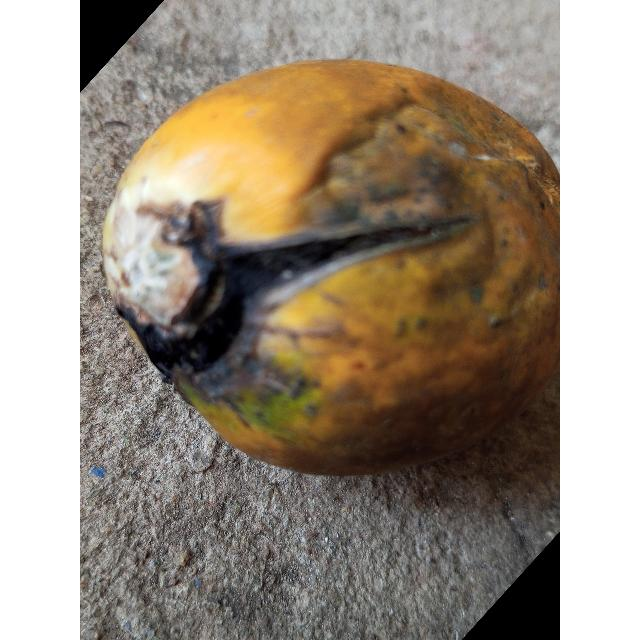damaged: (103, 60, 560, 475)
